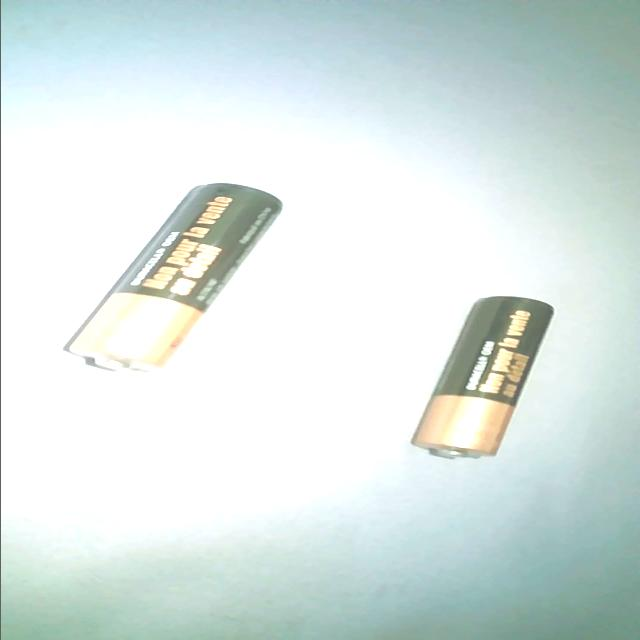AA: (61, 182, 285, 374), (409, 294, 556, 460)
